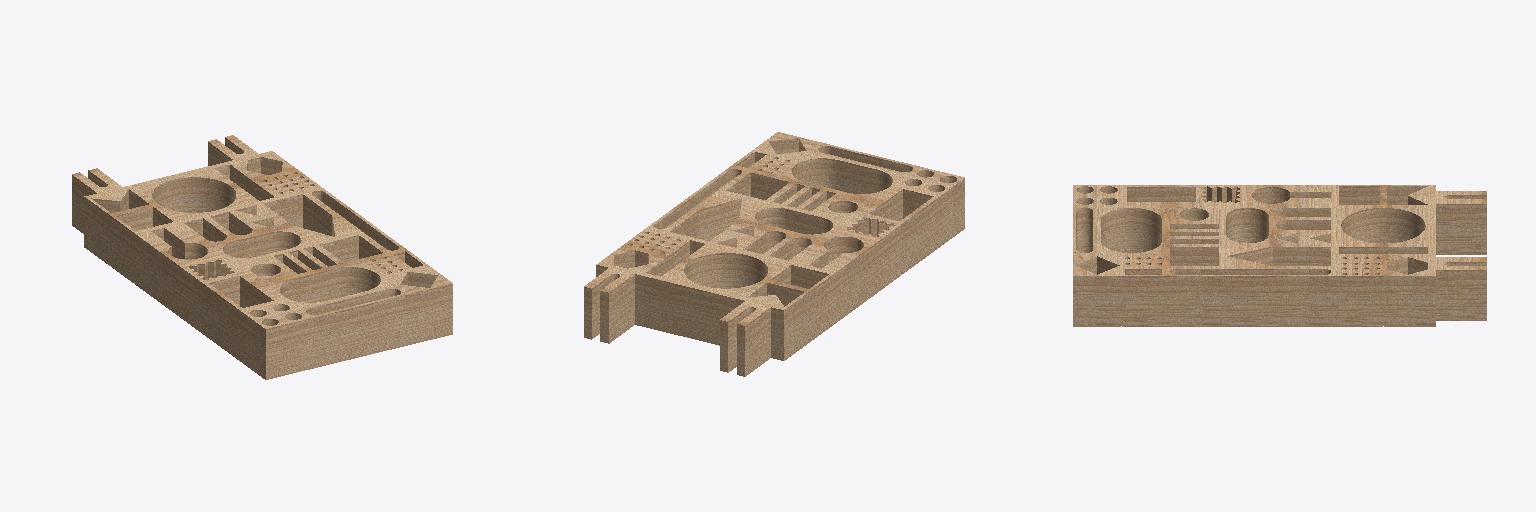
The picture shows the model from 3 angles: view 1: azimuth 30°, elevation 25°; view 2: azimuth 150°, elevation 25°; view 3: azimuth 270°, elevation 25°; orthographic projection.
Visible parts, largest first — view 1: Layer_0, Object001, Layer_02, Layer_03; view 2: Layer_0, Object001, Layer_02, Layer_03; view 3: Layer_0, Layer_01, Object001, Layer_03.
Part boxes in pixels (x1,y1,x2,y2): Layer_0: (91,157,452,379); Object001: (72,135,452,328); Layer_02: (84,197,265,379); Layer_03: (72,137,243,233); Layer_0: (584,138,956,376); Object001: (584,132,964,325); Layer_02: (784,178,964,360); Layer_03: (592,274,770,376); Layer_0: (1075,186,1448,274); Layer_01: (1073,276,1435,326); Object001: (1073,185,1486,275); Layer_03: (1436,195,1486,320).
Bounding box in the file's own units: 0.9744 × 0.2526 × 1.86.
1 materials, 1 textured.